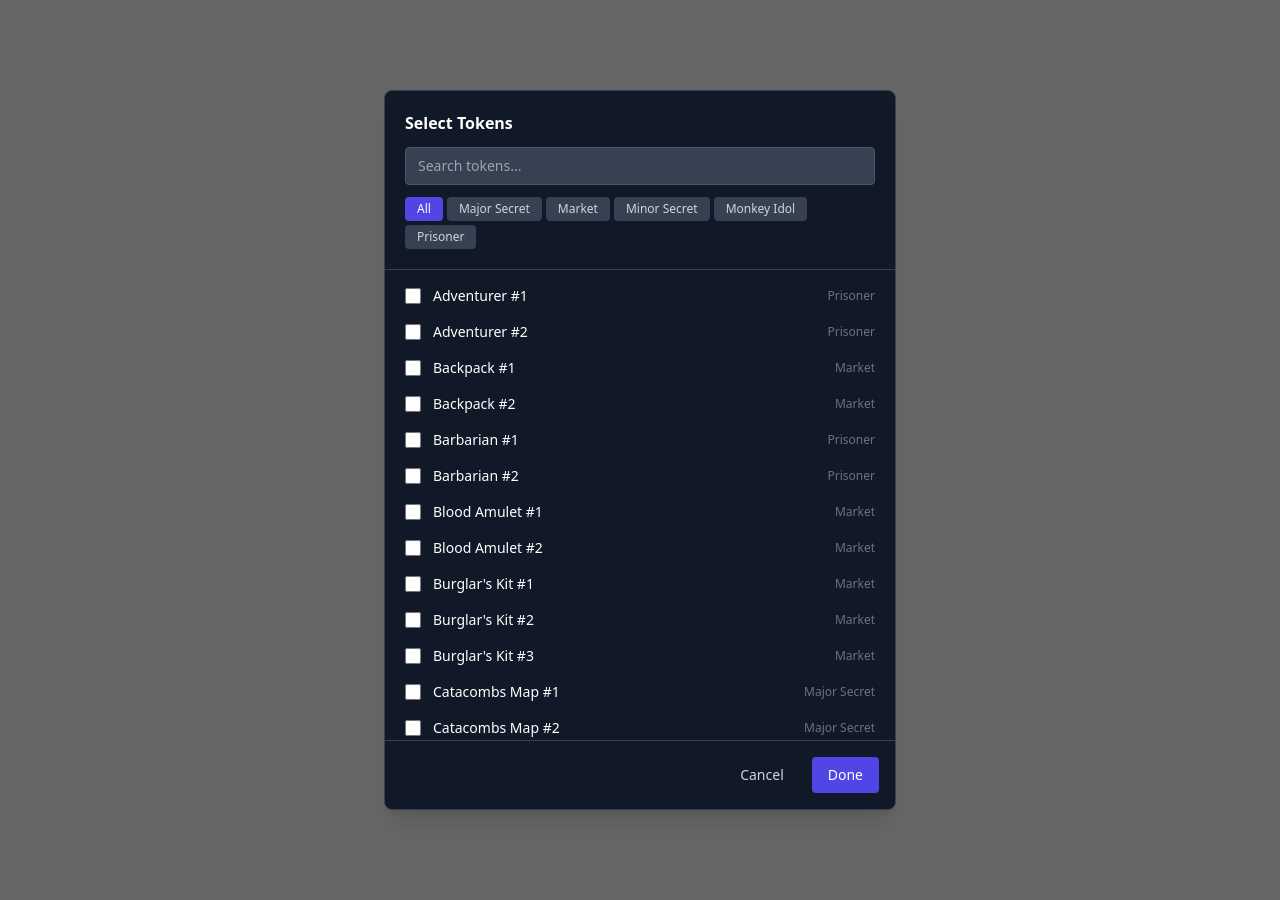
TokenPickerModal › filters tokens by name search
This screenshot has width=1280, height=900.
In the field with placeholder "Search tokens...": (640,166) [405,147,875,185], type "Potion"
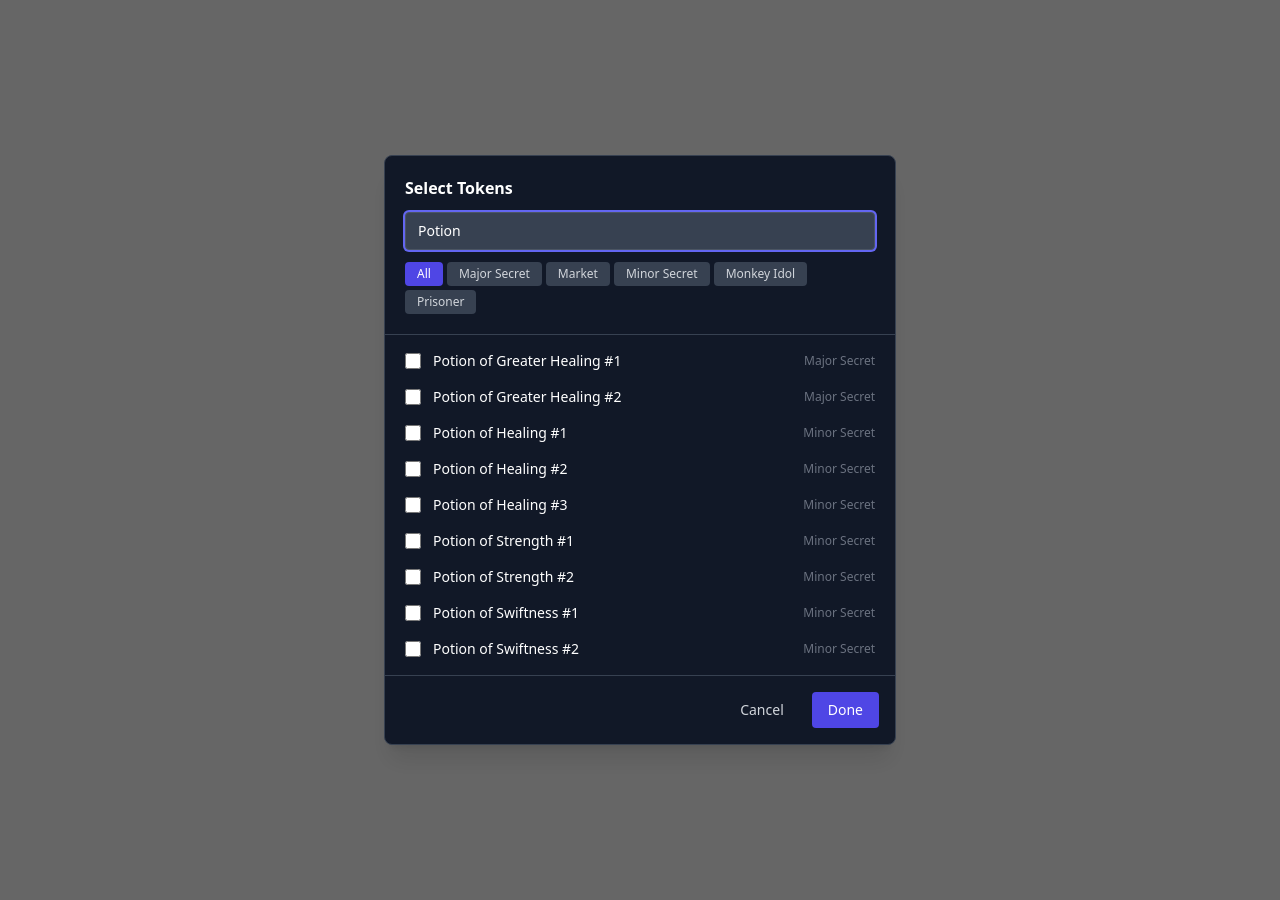
Now the text "Potion of Healing #1" is shown, box [433,423,568,442]
